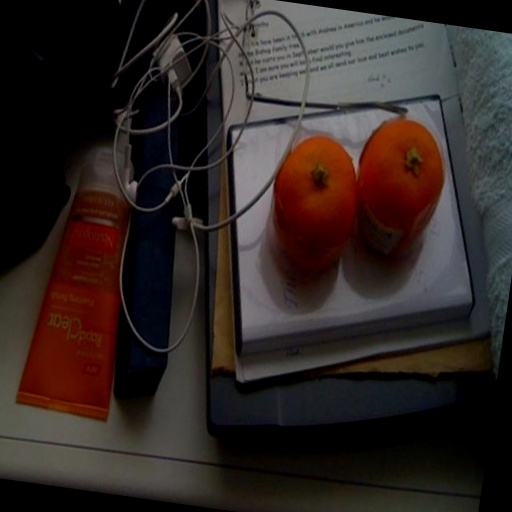fruit: (108, 88, 441, 389), (164, 94, 512, 365)
